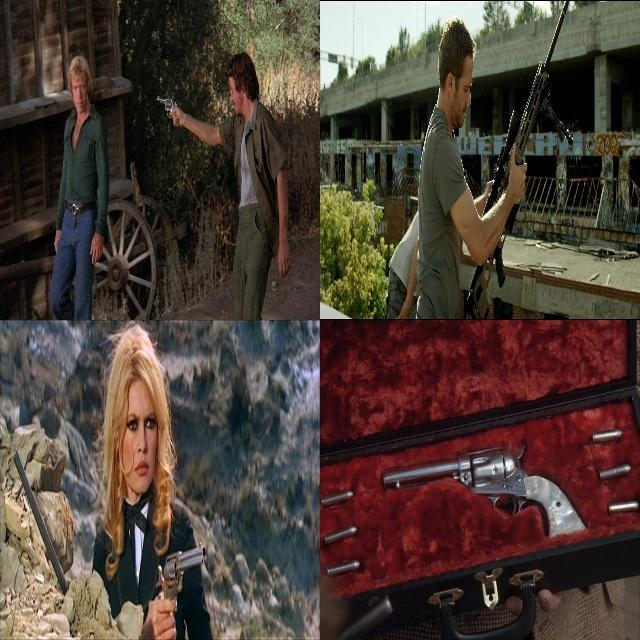gun-knife-thesis - v11 Yolov5 augmented: (461, 0, 573, 319), (380, 443, 587, 541), (153, 539, 206, 639), (154, 90, 181, 127)
